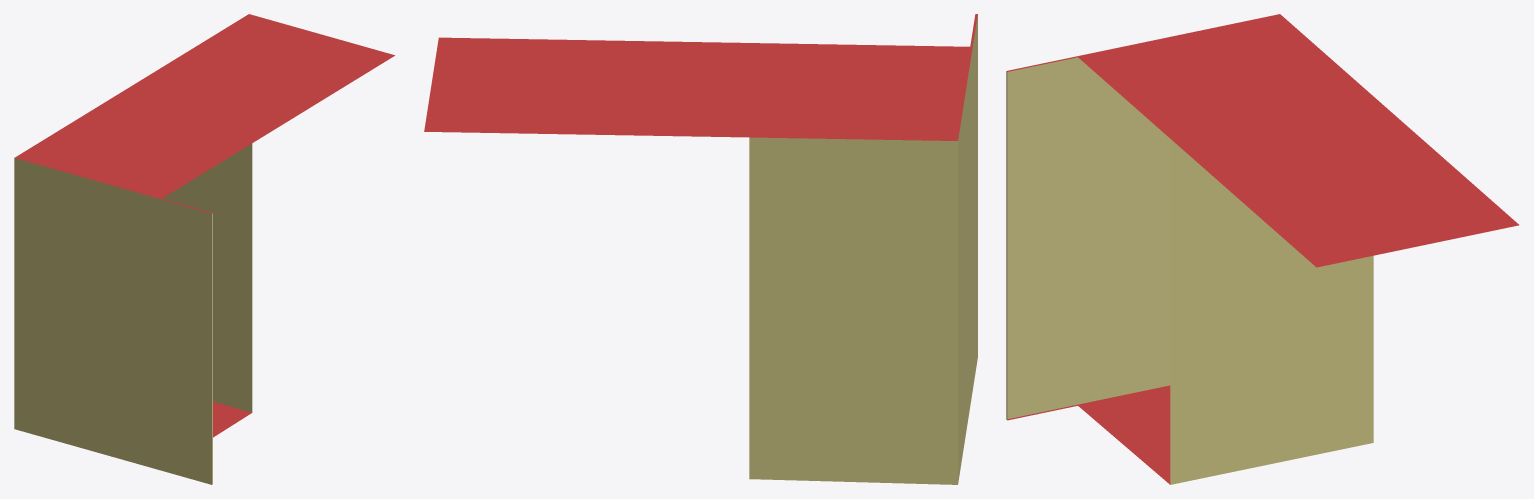
The picture shows the model from 3 angles, left to right: view 1: azimuth 30°, elevation 25°; view 2: azimuth 150°, elevation 25°; view 3: azimuth 270°, elevation 25°; orthographic projection. The views are drawn at different scales.
Size of the model in its own units: 9.83 by 8.61 by 6.45.
